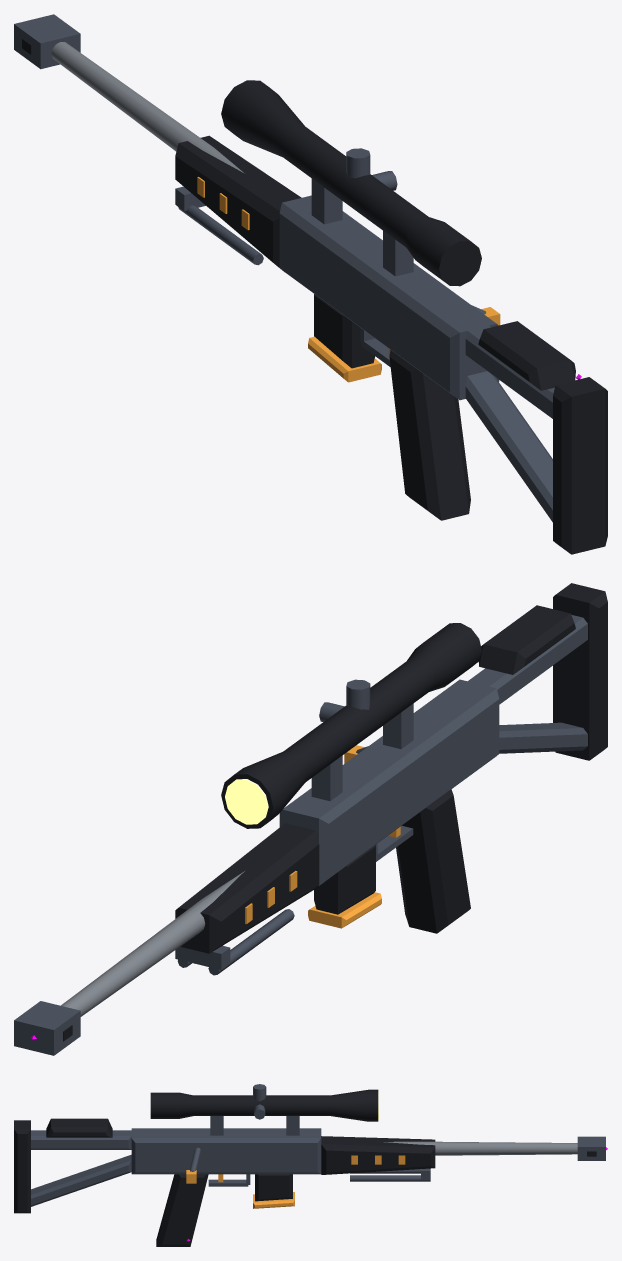
File: Sniper.glb
3 views of the same model, one above another, from view 1: azimuth 30°, elevation 25°; view 2: azimuth 150°, elevation 25°; view 3: azimuth 270°, elevation 25° (orthographic). The views are drawn at different scales.
Parts seen in each view (by area): view 1: Dark, Steel, Bare, Accent; view 2: Dark, Steel, Bare, Accent, Glow; view 3: Dark, Steel, Bare, Accent.
Part boxes in pixels (left/top/right/bottom): Dark: left=22, top=38, right=607, bottom=554; Steel: left=14, top=14, right=554, bottom=522; Bare: left=51, top=42, right=243, bottom=172; Accent: left=197, top=177, right=500, bottom=382; Dark: left=63, top=583, right=607, bottom=1041; Steel: left=14, top=615, right=587, bottom=1055; Bare: left=61, top=871, right=244, bottom=1016; Accent: left=245, top=745, right=400, bottom=928; Glow: left=225, top=779, right=268, bottom=824; Dark: left=14, top=1089, right=596, bottom=1246; Steel: left=31, top=1084, right=605, bottom=1206; Bare: left=384, top=1141, right=577, bottom=1155; Accent: left=186, top=1155, right=405, bottom=1208.
Size of the model in its own units: 1.19 by 1.82 by 6.26.
